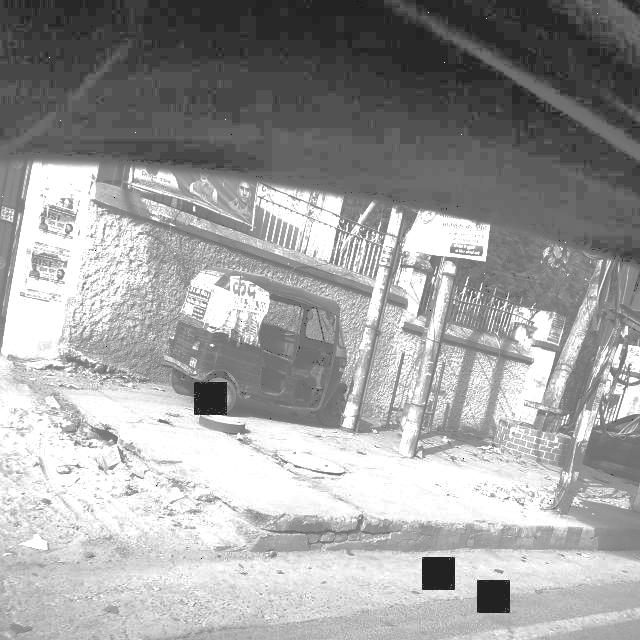Auto-Rickshaw: (180, 244, 350, 432)
